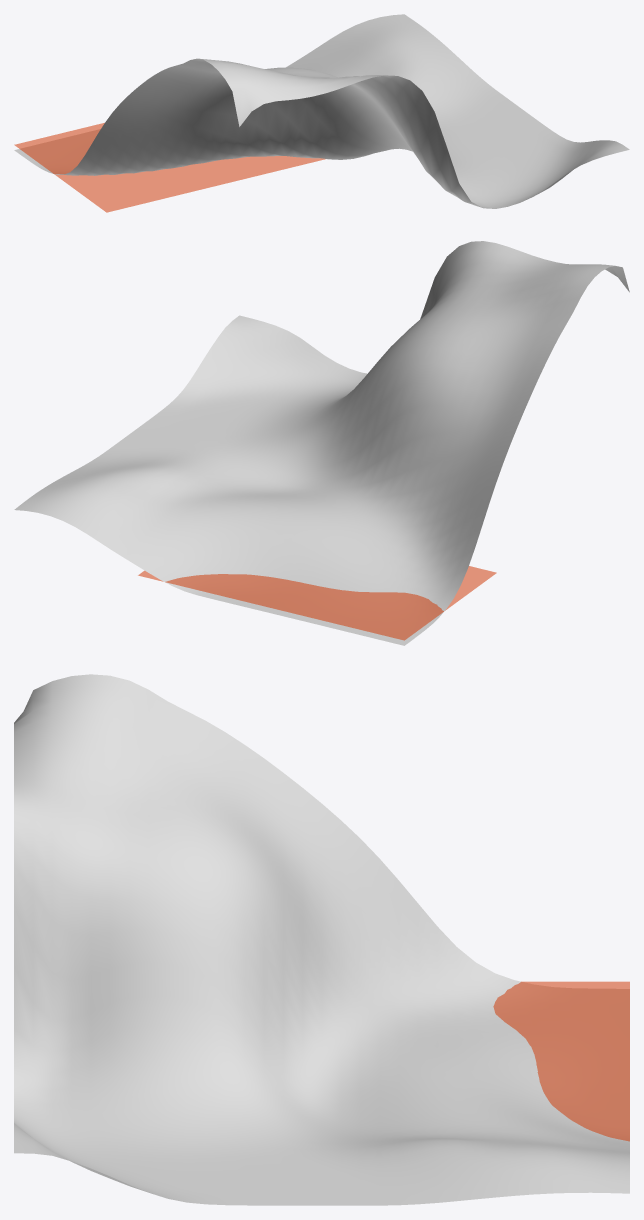
The model's file is chunk_-3_2.glb.
3 views of the same model, one above another, from view 1: azimuth 30°, elevation 25°; view 2: azimuth 150°, elevation 25°; view 3: azimuth 270°, elevation 25° (orthographic). The views are drawn at different scales.
Parts seen in each view (by area): view 1: chunk_-3_2-col, lava-lava; view 2: chunk_-3_2-col, lava-lava; view 3: chunk_-3_2-col, lava-lava.
Boxes of the visible parts, <box> form: chunk_-3_2-col: <box>14,14,629,208</box>; lava-lava: <box>14,123,325,212</box>; chunk_-3_2-col: <box>14,241,629,645</box>; lava-lava: <box>138,566,496,640</box>; chunk_-3_2-col: <box>14,674,629,1205</box>; lava-lava: <box>493,981,629,1141</box>.
Size of the model in its own units: 64 by 36.07 by 64.
